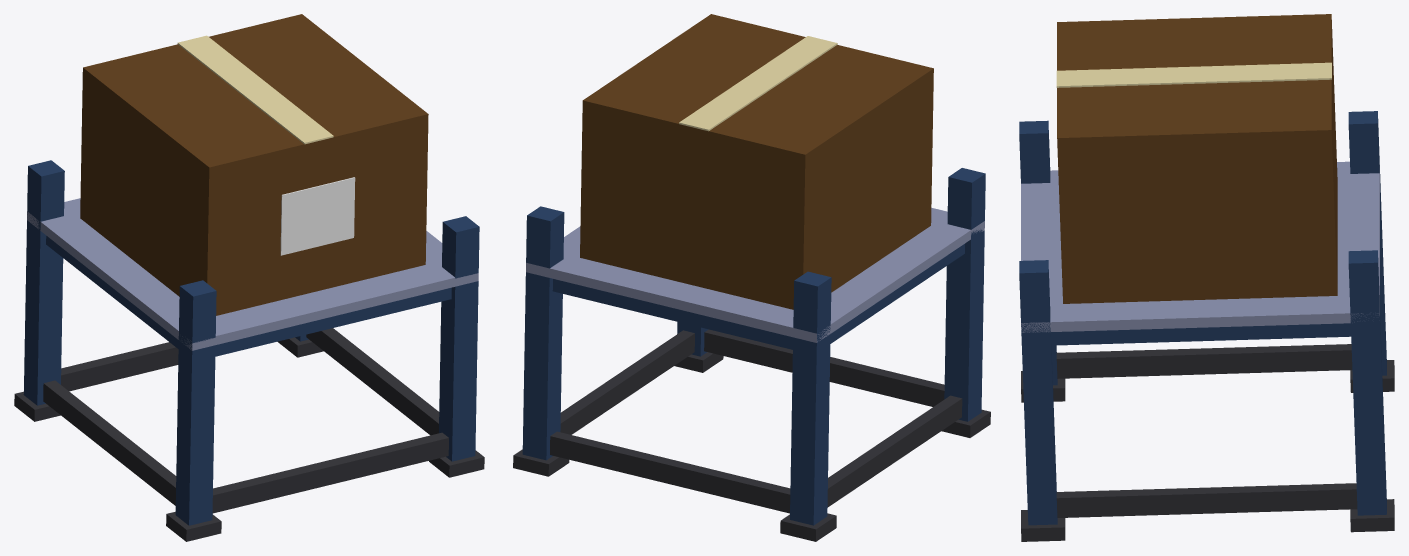
The model's file is occupied-shelf.obj.
3 renders of one model, left to right at view 1: azimuth 30°, elevation 25°; view 2: azimuth 150°, elevation 25°; view 3: azimuth 270°, elevation 25°, orthographic. The views are drawn at different scales.
Visible parts, largest first — view 1: Rak_Kardus_Ada_Isi; view 2: Rak_Kardus_Ada_Isi; view 3: Rak_Kardus_Ada_Isi.
Boxes of the visible parts, x1,y1,x2,y2 form: Rak_Kardus_Ada_Isi: [14, 14, 484, 541]; Rak_Kardus_Ada_Isi: [513, 14, 990, 541]; Rak_Kardus_Ada_Isi: [1019, 14, 1394, 541].
Size of the model in its own units: 1.02 by 1.18 by 1.03.
